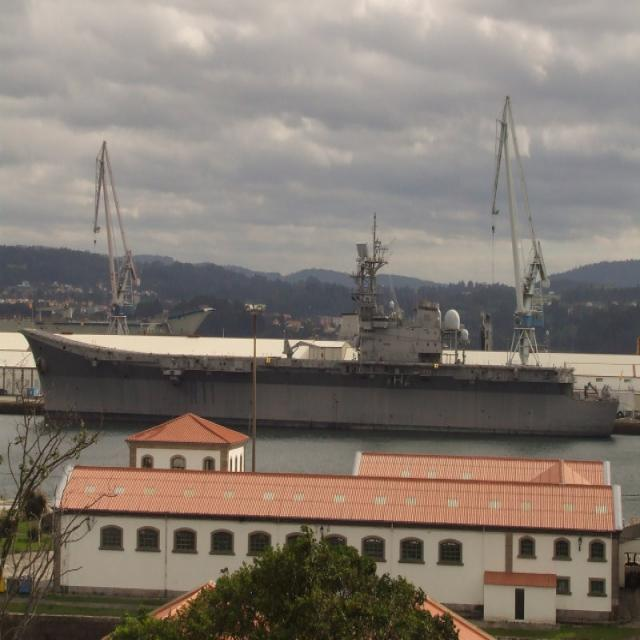Portanaves: (21, 209, 625, 431)
